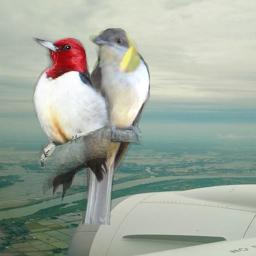Cuckoo: (78, 28, 150, 225)
Woodpecker: (29, 37, 114, 207)
